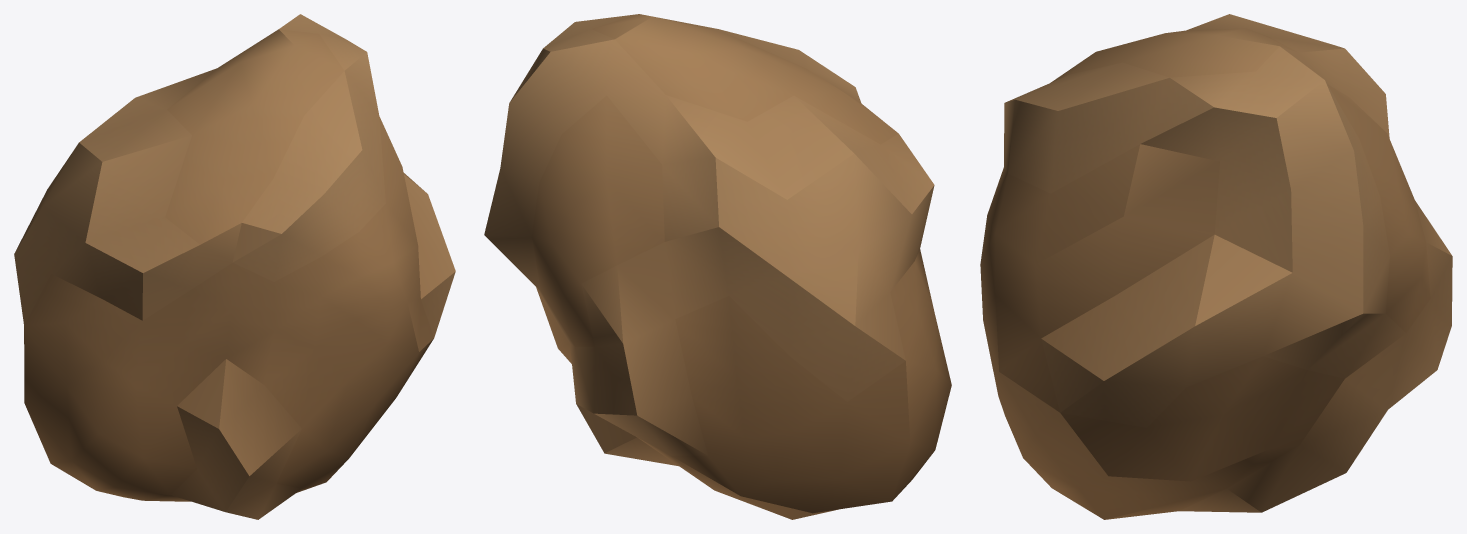
File: Rock_3_N_Color5.fbx
The picture shows the model from 3 angles, left to right: view 1: azimuth 30°, elevation 25°; view 2: azimuth 150°, elevation 25°; view 3: azimuth 270°, elevation 25°; orthographic projection. The views are drawn at different scales.
Parts seen in each view (by area): view 1: Rock_3_N_Color5; view 2: Rock_3_N_Color5; view 3: Rock_3_N_Color5.
Part boxes in pixels (x1,y1,x2,y2): Rock_3_N_Color5: [14, 14, 455, 519]; Rock_3_N_Color5: [484, 14, 951, 519]; Rock_3_N_Color5: [980, 14, 1452, 519].
Bounding box in the file's own units: 3.42 × 3.53 × 2.98.
